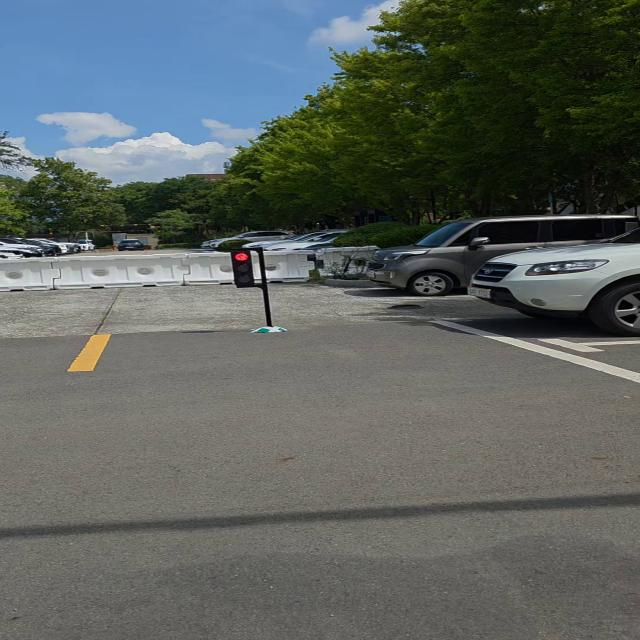red: (231, 248, 255, 291)
